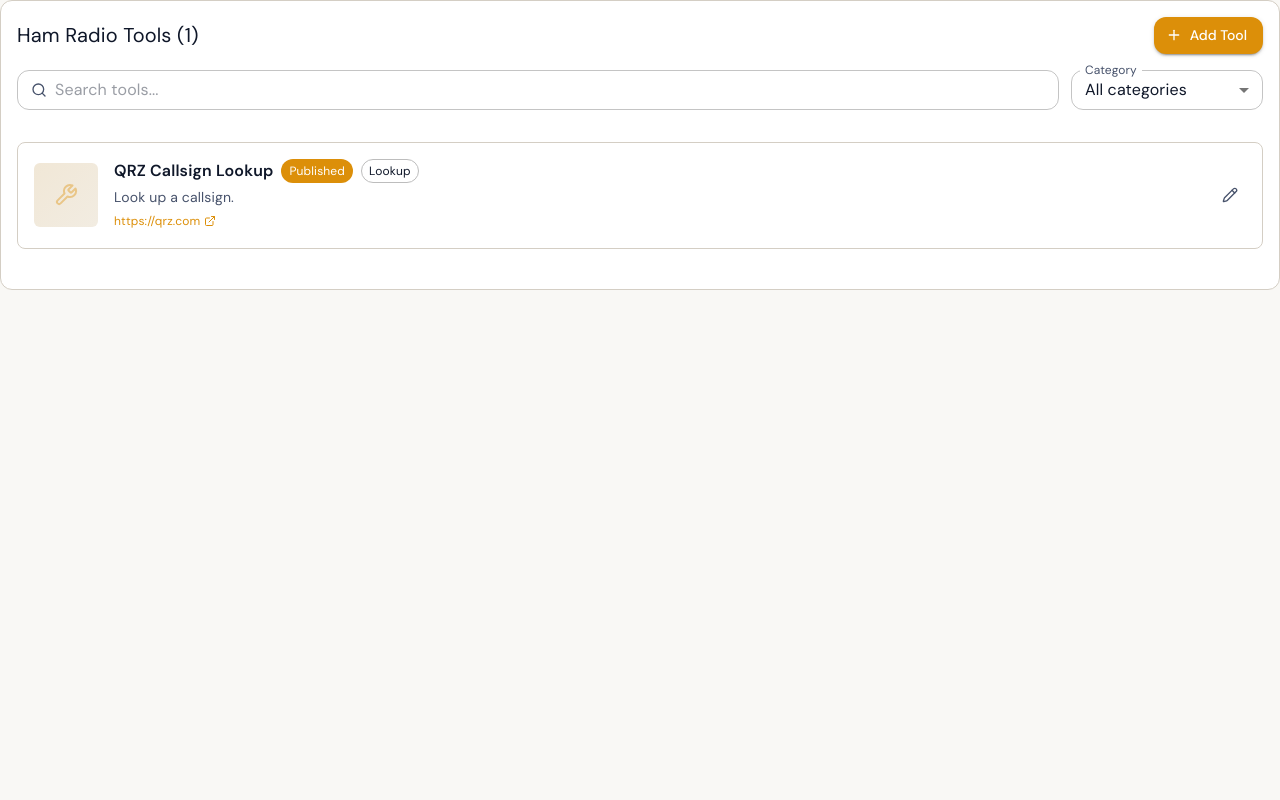
Test case: AdminHamRadioTools › add dialog › keeps submit disabled until title, description and URL are all filled
Click the button "Add Tool": (1208, 35) [1154,17,1263,54]
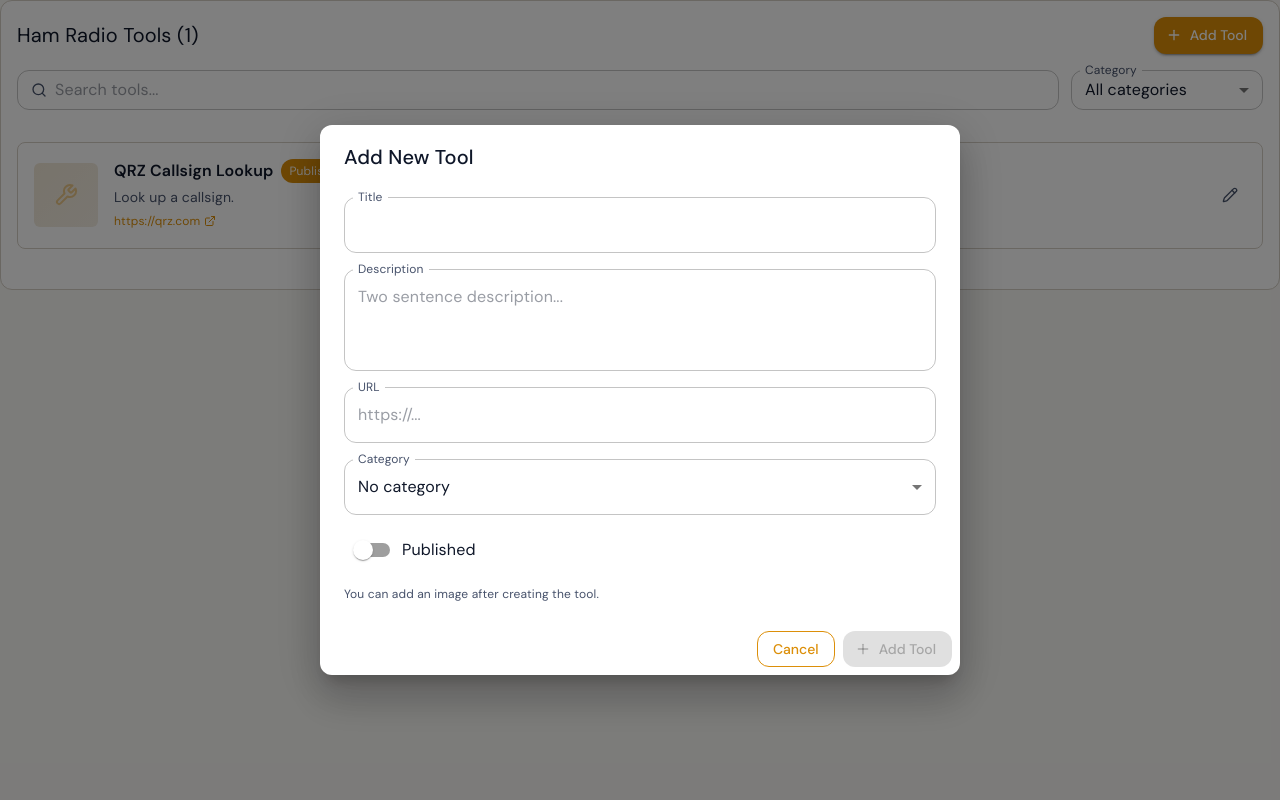
Result: the button "Add Tool" is disabled at [843,631,952,667]
In the field labelled "Title": (640, 225) [344,197,936,253], type "Grid Map"
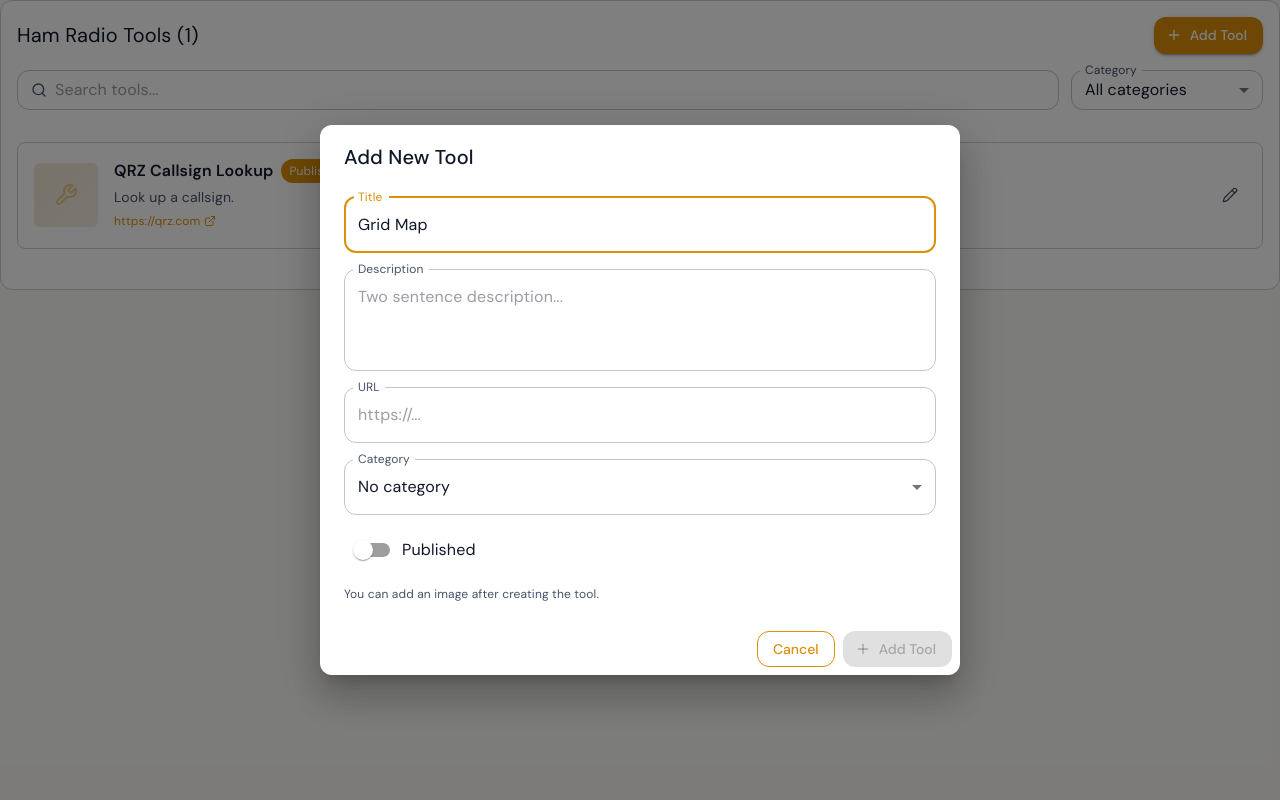
Result: the button "Add Tool" is disabled at [843,631,952,667]
In the text box labelled "Description": (640, 320) [358,285,922,354], type "Maps grids."
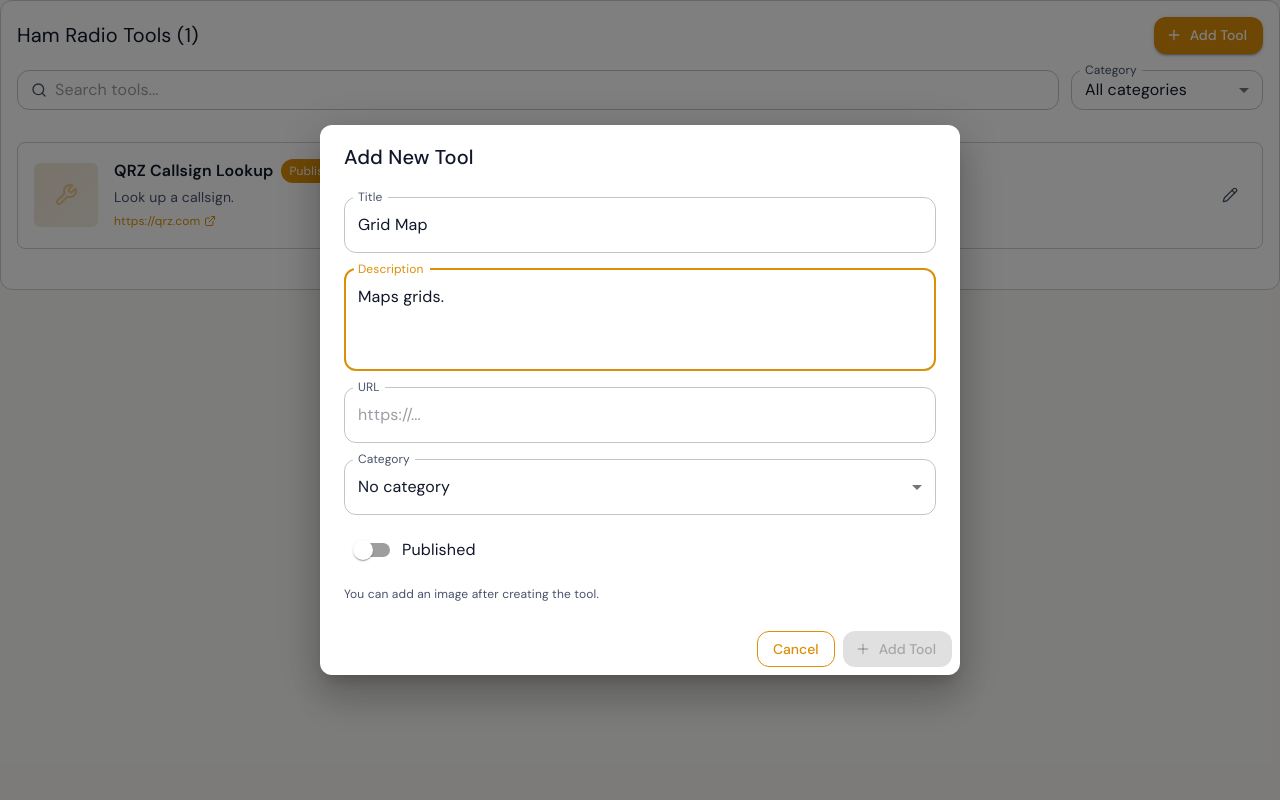
Result: the button "Add Tool" is disabled at [843,631,952,667]
In the field labelled "URL": (640, 415) [344,387,936,443], type "https://example.com"
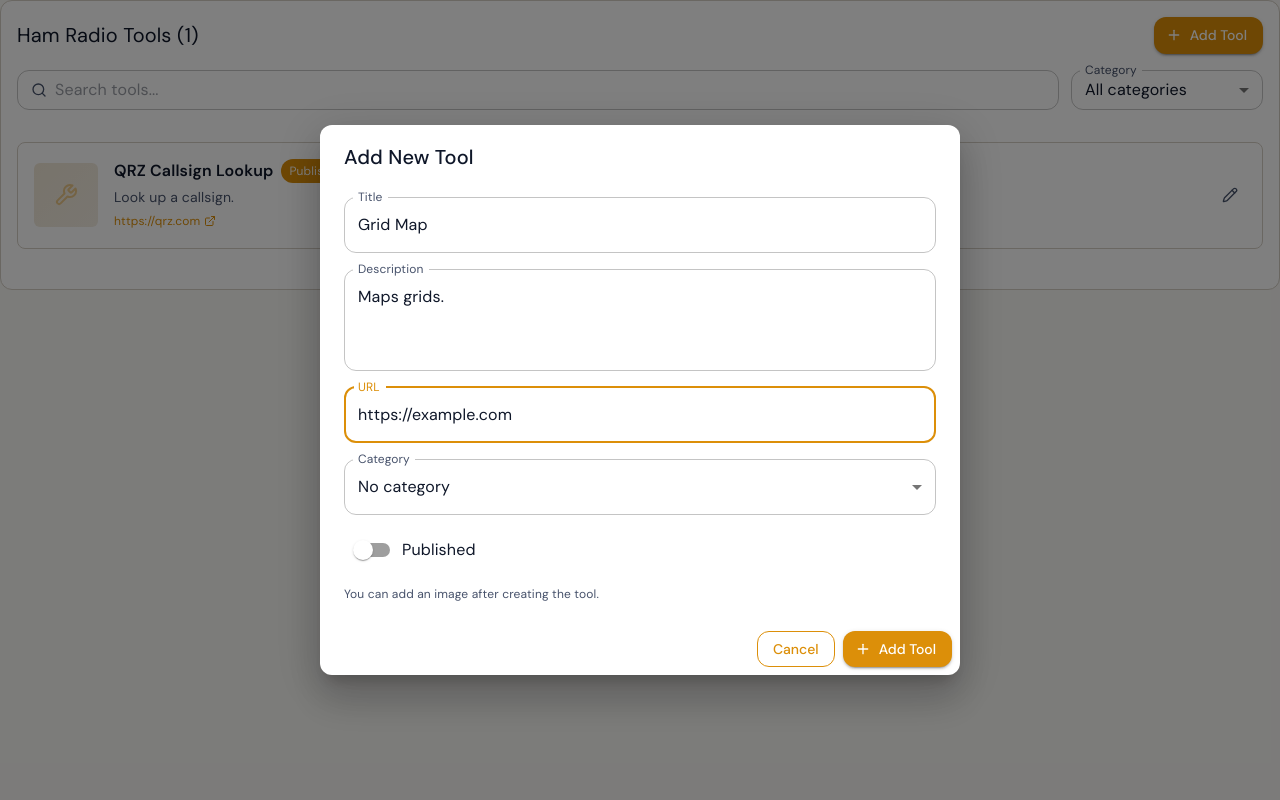
Result: the button "Add Tool" is enabled at [843,631,952,667]
